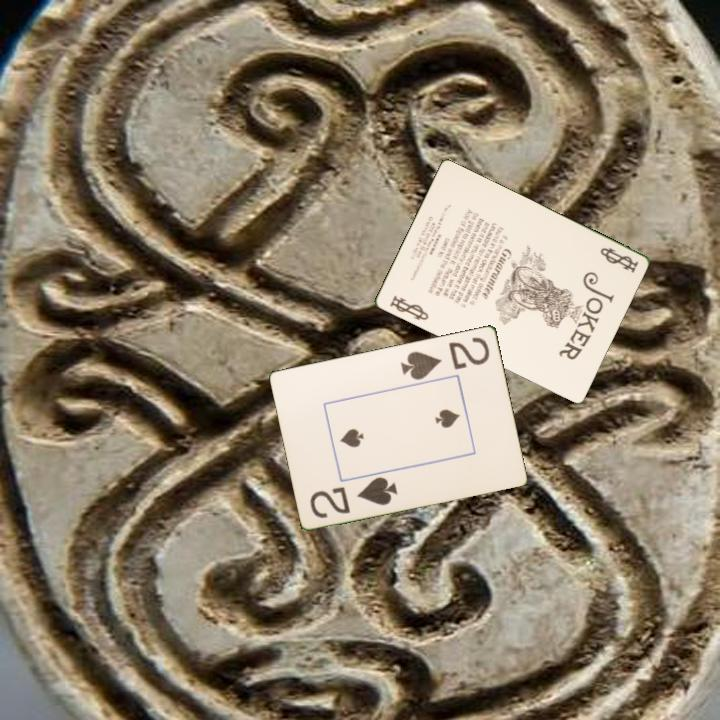2s: (398, 333, 493, 382), (307, 473, 400, 521)
JK: (386, 292, 431, 324), (596, 244, 641, 276)
